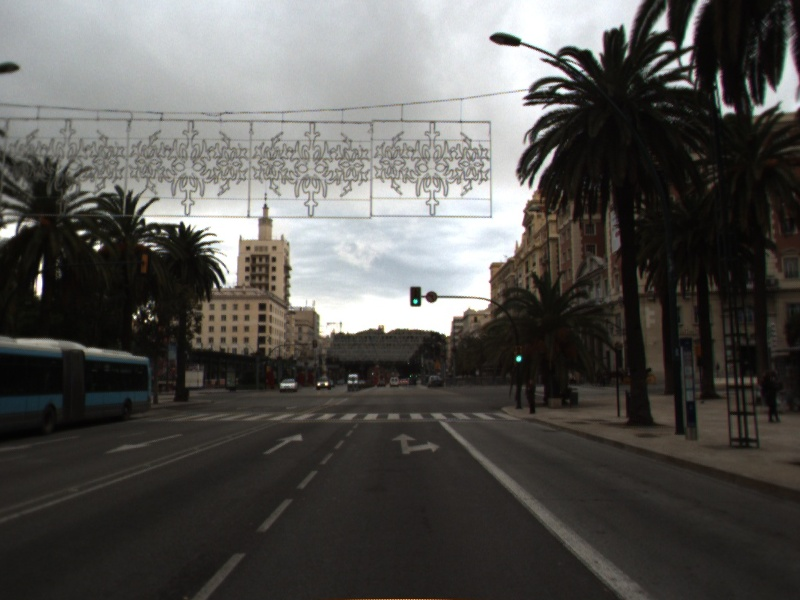STRAIGHT: (261, 431, 304, 457)
STRAIGHT_RIGHT: (389, 431, 442, 456)
